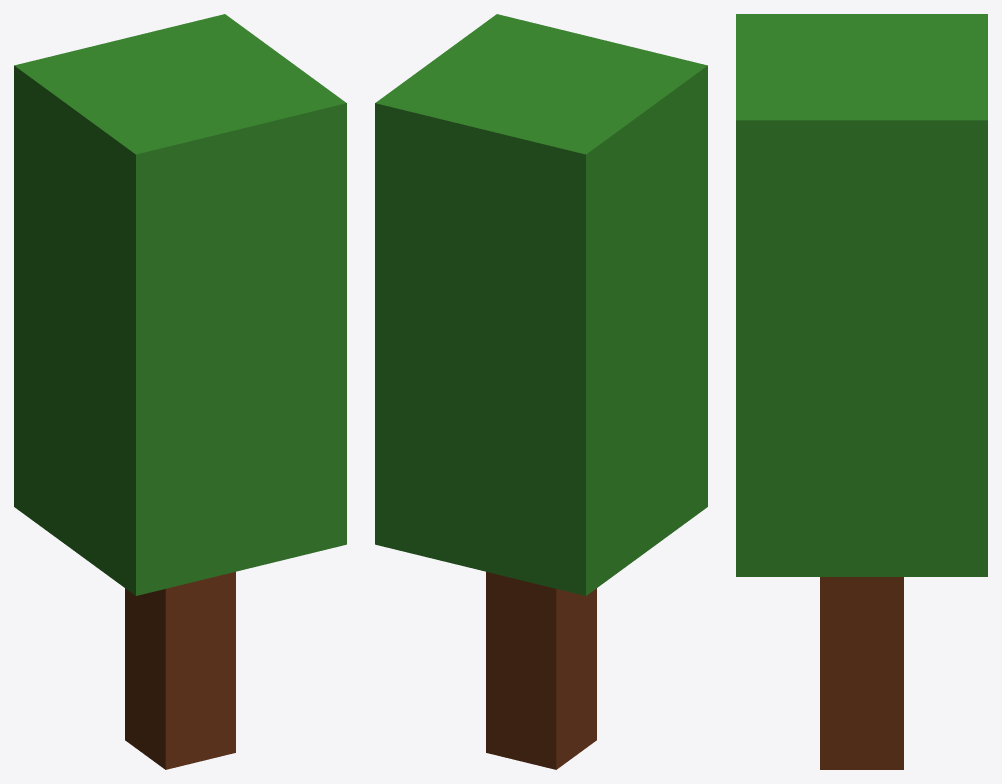
File: Tree-2.obj
3 views of the same model, side by side, from view 1: azimuth 30°, elevation 25°; view 2: azimuth 150°, elevation 25°; view 3: azimuth 270°, elevation 25° (orthographic). The views are drawn at different scales.
Parts seen in each view (by area): view 1: Tree-2; view 2: Tree-2; view 3: Tree-2.
Part boxes in pixels (x1,y1,x2,y2): Tree-2: (14, 14, 346, 769); Tree-2: (375, 14, 707, 769); Tree-2: (736, 14, 987, 769).
Size of the model in its own units: 6 by 18 by 6.
Materials: 1 (1 with a texture image).
